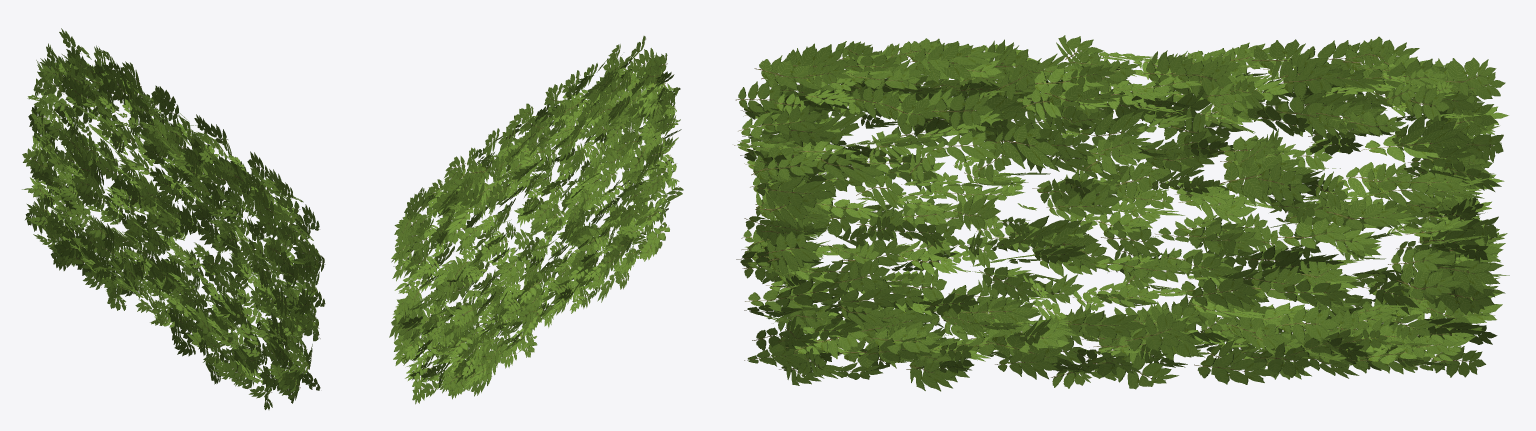
Rendered from box hedge.FBX.
3 renders of one model, left to right at view 1: azimuth 30°, elevation 25°; view 2: azimuth 150°, elevation 25°; view 3: azimuth 270°, elevation 25°, orthographic. The views are drawn at different scales.
Parts seen in each view (by area): view 1: Leaves; view 2: Leaves; view 3: Leaves.
Part boxes in pixels (box(x1,y1,x2,y2)): Leaves: box(22, 28, 325, 409); Leaves: box(389, 36, 683, 404); Leaves: box(734, 35, 1509, 391).
Bounding box in the file's own units: 32.6 × 77.85 × 149.
